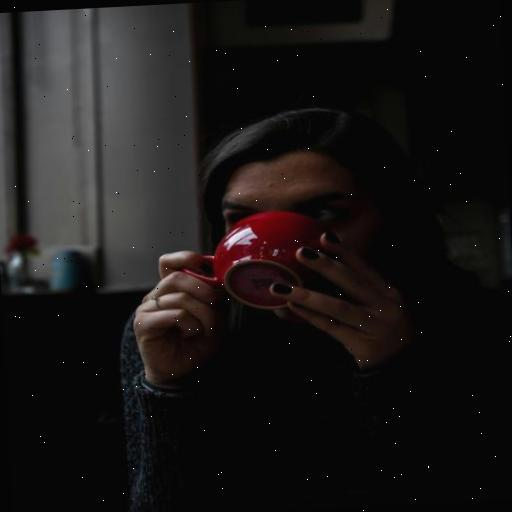cup: (180, 206, 337, 315)
